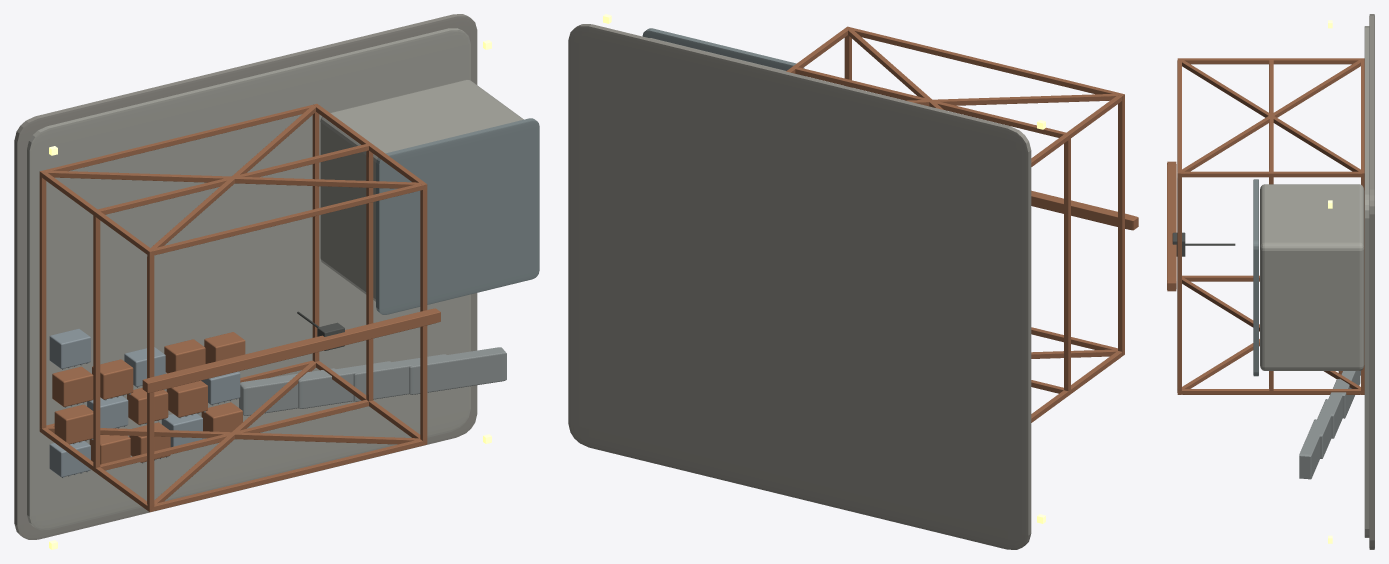
File: b-47-salvage-yard-lod1.glb
3 renders of one model, left to right at view 1: azimuth 30°, elevation 25°; view 2: azimuth 150°, elevation 25°; view 3: azimuth 270°, elevation 25°, orthographic. The views are drawn at different scales.
Parts seen in each view (by area): view 1: foundation_inner_pad, crusher_hall_roof, foundation, crusher_hall_main_hall, primary_salvage_gantry_bridge, salvage_conveyor_3, primary_salvage_gantry_brace_a_4.25, primary_salvage_gantry_brace_a_-4.25, primary_salvage_gantry_beam_x_2_n, primary_salvage_gantry_beam_x_2_s, primary_salvage_gantry_beam_y_0_w, primary_salvage_gantry_beam_y_1_w (+32 smaller); view 2: foundation, primary_salvage_gantry_beam_x_2_n, primary_salvage_gantry_beam_x_1_n, primary_salvage_gantry_beam_y_2_w, primary_salvage_gantry_beam_y_1_w, crusher_hall_roof, primary_salvage_gantry_bridge, primary_salvage_gantry_brace_b_4.25, primary_salvage_gantry_column_w_n, primary_salvage_gantry_brace_a_4.25, primary_salvage_gantry_column_w_s; view 3: crusher_hall_main_hall, foundation, foundation_inner_pad, primary_salvage_gantry_brace_b_4.25, primary_salvage_gantry_brace_a_4.25, primary_salvage_gantry_bridge, primary_salvage_gantry_column_e_n, primary_salvage_gantry_column_w_n, crusher_hall_roof, primary_salvage_gantry_beam_y_2_e, primary_salvage_gantry_column_e_s, salvage_conveyor_3 (+10 smaller).
Boxes of the visible parts, <box> form: foundation_inner_pad: <box>27,28,470,530</box>; crusher_hall_roof: <box>376,118,539,314</box>; foundation: <box>14,14,477,539</box>; crusher_hall_main_hall: <box>320,79,523,301</box>; primary_salvage_gantry_bridge: <box>142,308,440,392</box>; salvage_conveyor_3: <box>409,347,506,394</box>; primary_salvage_gantry_brace_a_4.25: <box>47,170,419,188</box>; primary_salvage_gantry_brace_a_-4.25: <box>46,426,419,444</box>; primary_salvage_gantry_beam_x_2_n: <box>147,183,427,255</box>; primary_salvage_gantry_beam_x_2_s: <box>147,439,426,511</box>; primary_salvage_gantry_beam_y_0_w: <box>39,170,46,428</box>; primary_salvage_gantry_beam_y_1_w: <box>93,209,100,467</box>; foundation: <box>568,24,1031,549</box>; primary_salvage_gantry_beam_x_2_n: <box>849,27,1124,100</box>; primary_salvage_gantry_beam_x_1_n: <box>795,67,1065,137</box>; primary_salvage_gantry_beam_y_2_w: <box>1118,93,1124,351</box>; primary_salvage_gantry_beam_y_1_w: <box>1064,134,1070,391</box>; crusher_hall_roof: <box>642,28,804,70</box>; primary_salvage_gantry_bridge: <box>1031,190,1138,230</box>; primary_salvage_gantry_brace_b_4.25: <box>906,94,1117,106</box>; primary_salvage_gantry_column_w_n: <box>1031,95,1122,166</box>; primary_salvage_gantry_brace_a_4.25: <box>848,29,943,109</box>; primary_salvage_gantry_column_w_s: <box>1031,351,1122,422</box>; crusher_hall_main_hall: <box>1260,184,1364,370</box>; foundation: <box>1369,14,1374,549</box>; foundation_inner_pad: <box>1364,26,1369,537</box>; primary_salvage_gantry_brace_b_4.25: <box>1182,60,1360,171</box>; primary_salvage_gantry_brace_a_4.25: <box>1182,60,1360,171</box>; primary_salvage_gantry_bridge: <box>1167,161,1176,291</box>; primary_salvage_gantry_column_e_n: <box>1181,171,1361,177</box>; primary_salvage_gantry_column_w_n: <box>1181,58,1360,64</box>; crusher_hall_roof: <box>1253,179,1258,376</box>; primary_salvage_gantry_beam_y_2_e: <box>1177,171,1181,394</box>; primary_salvage_gantry_column_e_s: <box>1181,389,1360,394</box>; salvage_conveyor_3: <box>1299,419,1325,479</box>.
Size of what is drawn, in the model's own units: 16 by 14 by 7.37.
